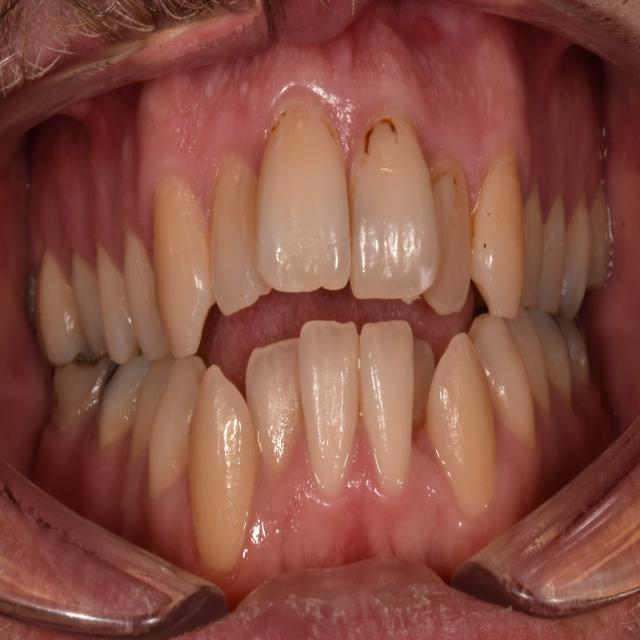tooth: (262, 120, 347, 295), (356, 130, 434, 308), (358, 321, 417, 498), (300, 327, 360, 482), (193, 371, 243, 549), (148, 192, 214, 324), (474, 314, 538, 445), (432, 367, 492, 493), (248, 338, 303, 467), (482, 167, 526, 307), (216, 180, 261, 306), (126, 246, 170, 363), (162, 359, 198, 492), (42, 255, 76, 367), (440, 168, 468, 298), (98, 247, 130, 359), (545, 192, 567, 317), (72, 262, 102, 350), (526, 190, 545, 309), (56, 376, 103, 414), (136, 365, 158, 444), (116, 371, 133, 438)
